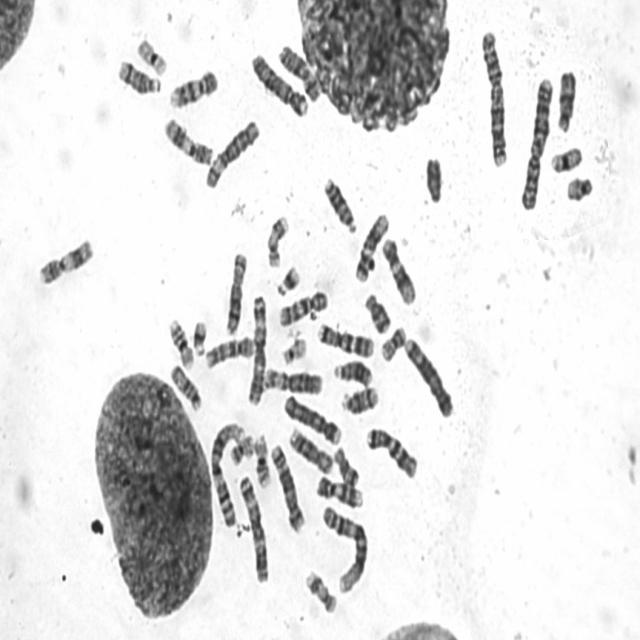A1: (322, 502, 370, 596), (208, 422, 244, 531)
A2: (519, 73, 553, 214), (481, 29, 508, 170)
A3: (237, 474, 270, 585), (247, 291, 268, 408)
B4: (249, 52, 309, 119), (284, 392, 344, 448)
B5: (402, 335, 454, 421), (268, 444, 306, 535)
C10: (277, 290, 330, 330), (204, 335, 255, 370)
C11: (37, 238, 94, 290), (162, 118, 213, 168)
C12: (381, 236, 418, 307), (354, 213, 390, 284)
C6: (203, 117, 261, 194), (263, 366, 325, 397)
C7: (365, 427, 419, 481), (316, 322, 374, 359)
C8: (289, 429, 335, 475), (225, 252, 248, 336)
C9: (168, 69, 220, 111), (316, 472, 364, 511)
D13: (323, 176, 357, 236), (332, 358, 374, 390)
D14: (116, 60, 164, 100), (340, 385, 381, 417)
D15: (170, 364, 203, 412), (555, 70, 579, 134)
E16: (167, 318, 194, 372), (252, 433, 272, 488)
E17: (303, 567, 337, 615), (266, 211, 292, 270)
E18: (363, 292, 392, 337), (332, 446, 360, 489)
F19: (134, 37, 168, 78), (550, 146, 584, 177)
F20: (379, 324, 408, 364), (230, 434, 254, 467)
G21: (276, 263, 300, 300), (191, 317, 208, 361)
G22: (280, 338, 308, 368), (566, 176, 594, 203)
X: (276, 42, 324, 103)
Y: (423, 155, 447, 211)
